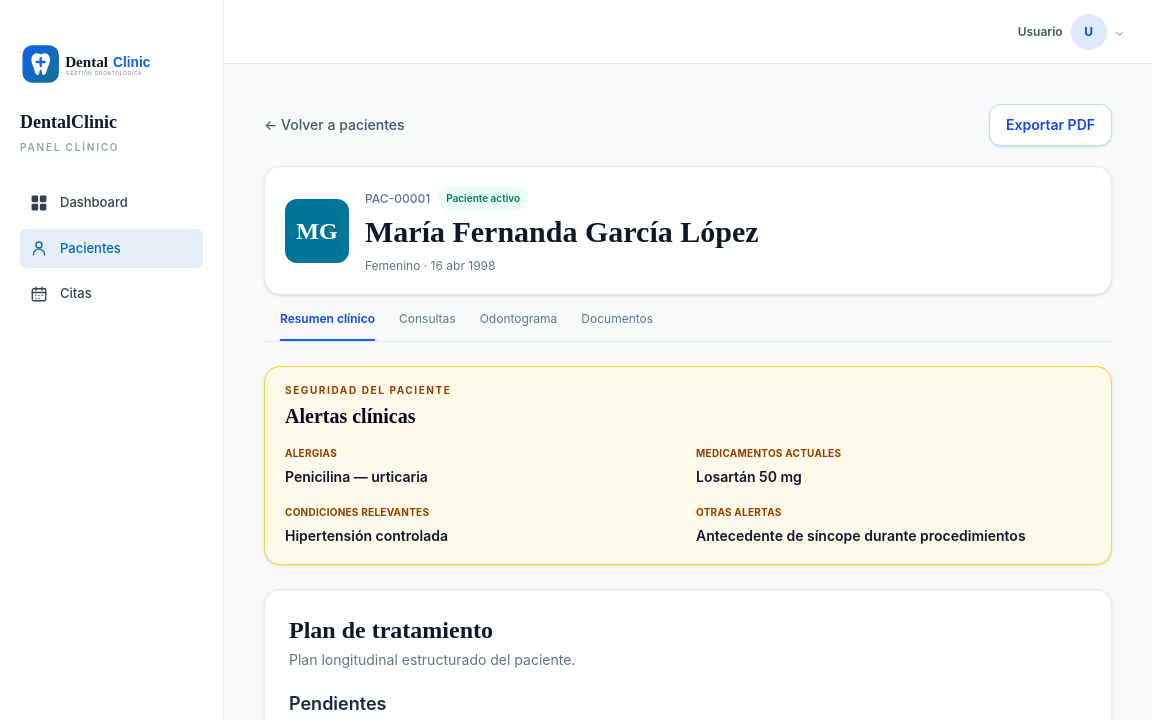
Scenario: authenticated routes › shows the persisted consultations for the current patient
Step 1. Click the tab "Consultas" → (427, 318), box top-left (399, 311), bottom-right (456, 326)
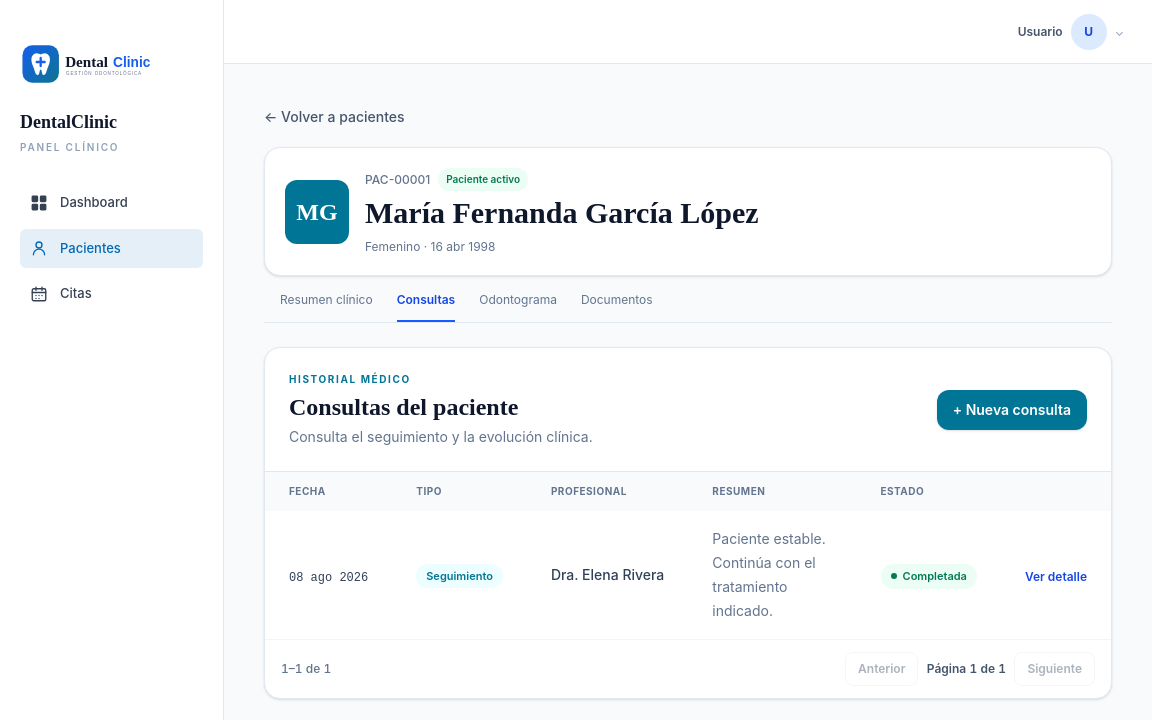
Result: the heading "Consultas del paciente" is shown at top-left (289, 394), bottom-right (518, 420)
Result: the text "Paciente estable. Continúa con el tratamiento indicado." is shown at top-left (688, 511), bottom-right (856, 639)
Result: the text "Completada" is shown at top-left (880, 564), bottom-right (977, 589)
